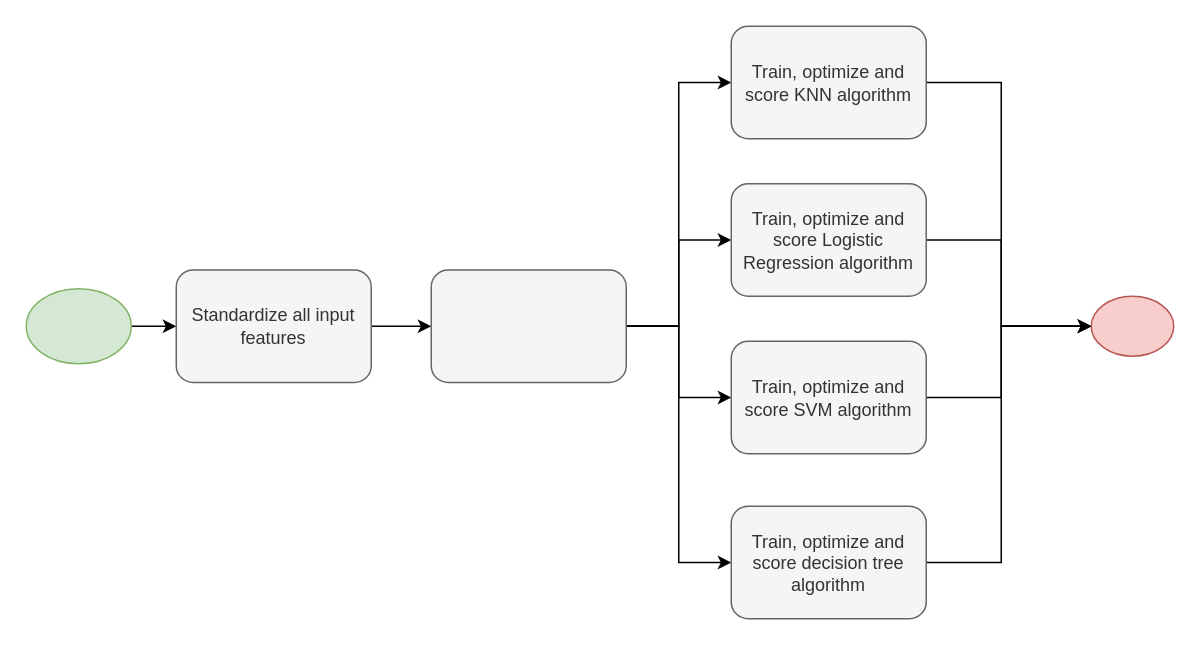
Image size: 1200x645. Some labels were removed from this diagram. The centre of each missing label's shape, as x and y in pixels:
"End" belongs at point 1132,325.
"Split training and testing data" belongs at point 528,325.
"Start" belongs at point 78,325.
